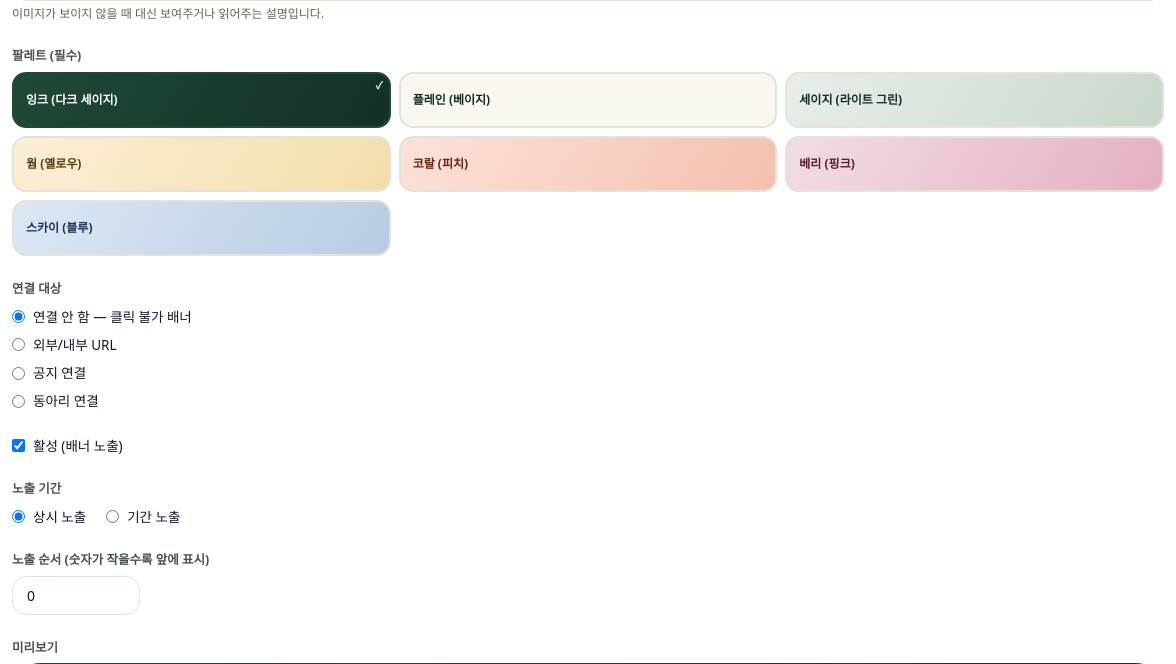
Test case: AdminPromotionForm — renderMode UI › URL 라디오 선택 시 URL 입력란만 노출된다
(page scrolled)
Click the radio button labelled "외부/내부 URL".
click(18, 345)  # box [12, 338, 25, 351]
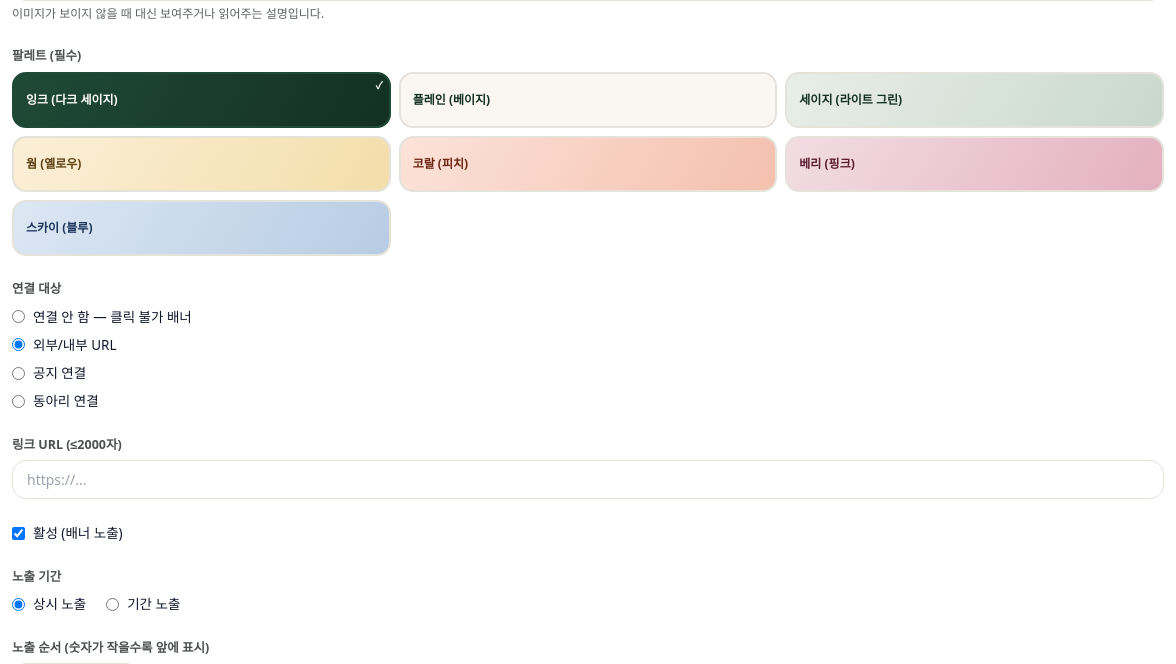
Check: the field with placeholder "https://..." is shown, box [12, 460, 1164, 499]
